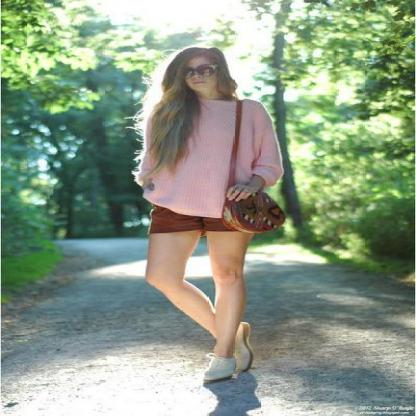bag: (216, 192, 278, 232)
shirt: (142, 94, 283, 217)
shoe: (204, 341, 248, 382)
shorts: (137, 204, 237, 238)
